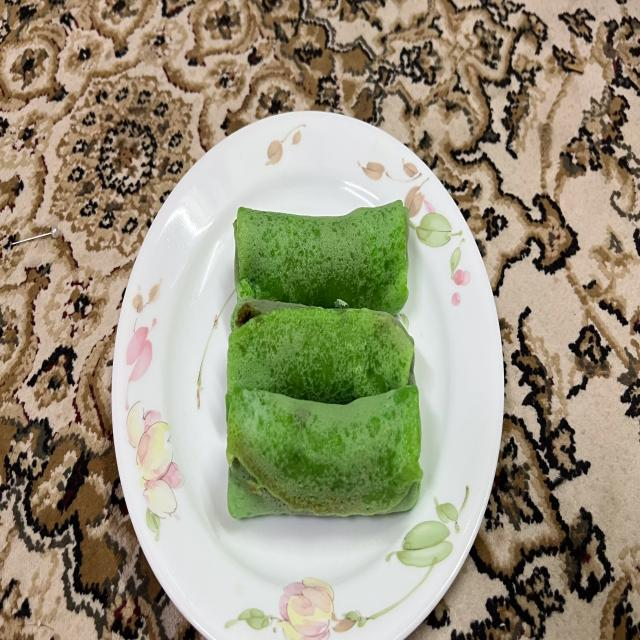Kuih-Ketayap: (226, 384, 422, 518), (234, 200, 409, 313), (228, 298, 414, 404)
